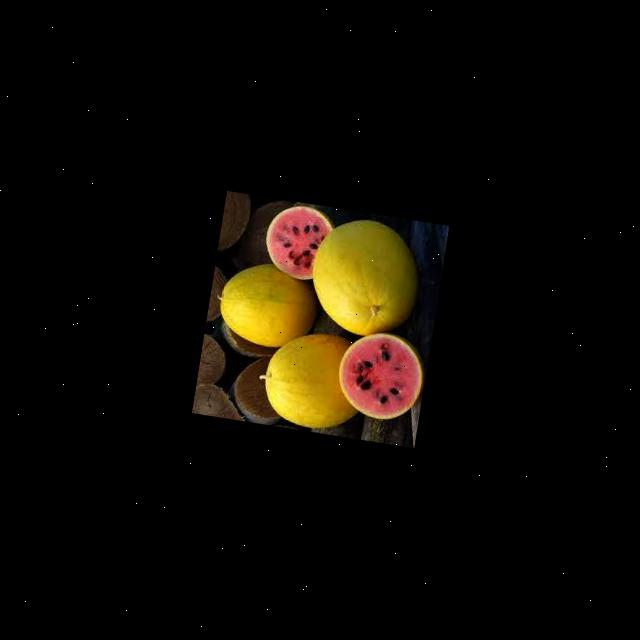watermelon: (303, 213, 427, 344), (258, 327, 369, 435), (213, 256, 325, 355), (332, 327, 429, 425), (260, 202, 338, 286)
